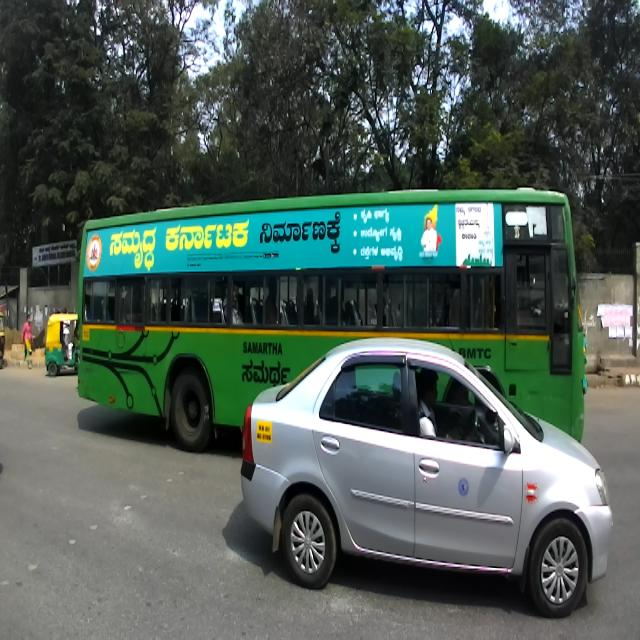bus ahead at: (83, 221, 577, 354)
car ahead at: (245, 338, 620, 622)
